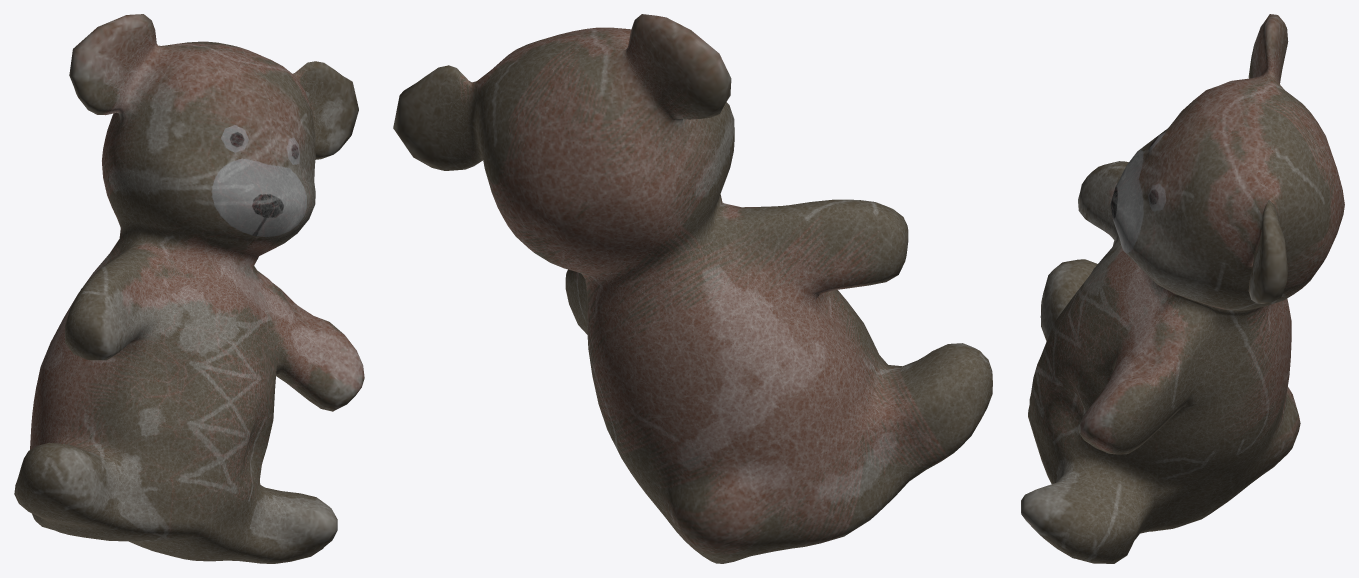
Rendered from doll.fbx.
3 views of the same model, side by side, from view 1: azimuth 30°, elevation 25°; view 2: azimuth 150°, elevation 25°; view 3: azimuth 270°, elevation 25° (orthographic). The views are drawn at different scales.
Visible parts, largest first — view 1: doll; view 2: doll; view 3: doll.
Boxes of the visible parts, bbox=[...] form: doll: bbox=[14, 14, 364, 563]; doll: bbox=[393, 14, 992, 563]; doll: bbox=[1021, 14, 1344, 563].
Bounding box in the file's own units: 93.48 × 106 × 61.12.
Materials: 1 (1 with a texture image).
